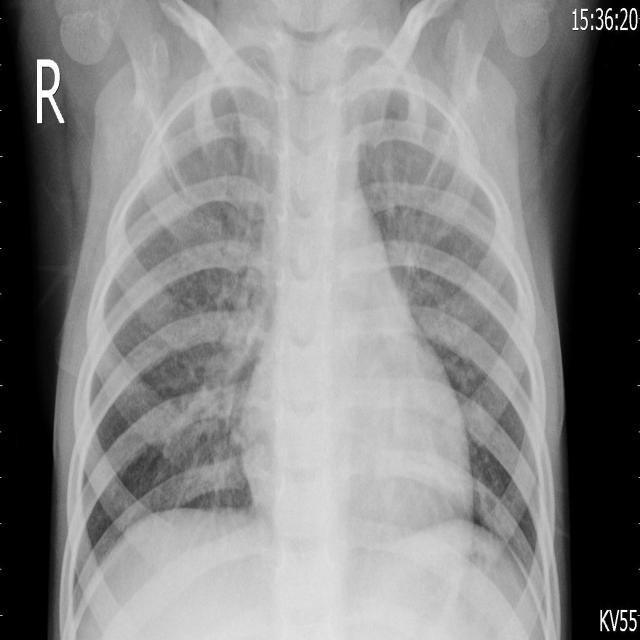viral_pneumonia: (4, 0, 640, 640)
